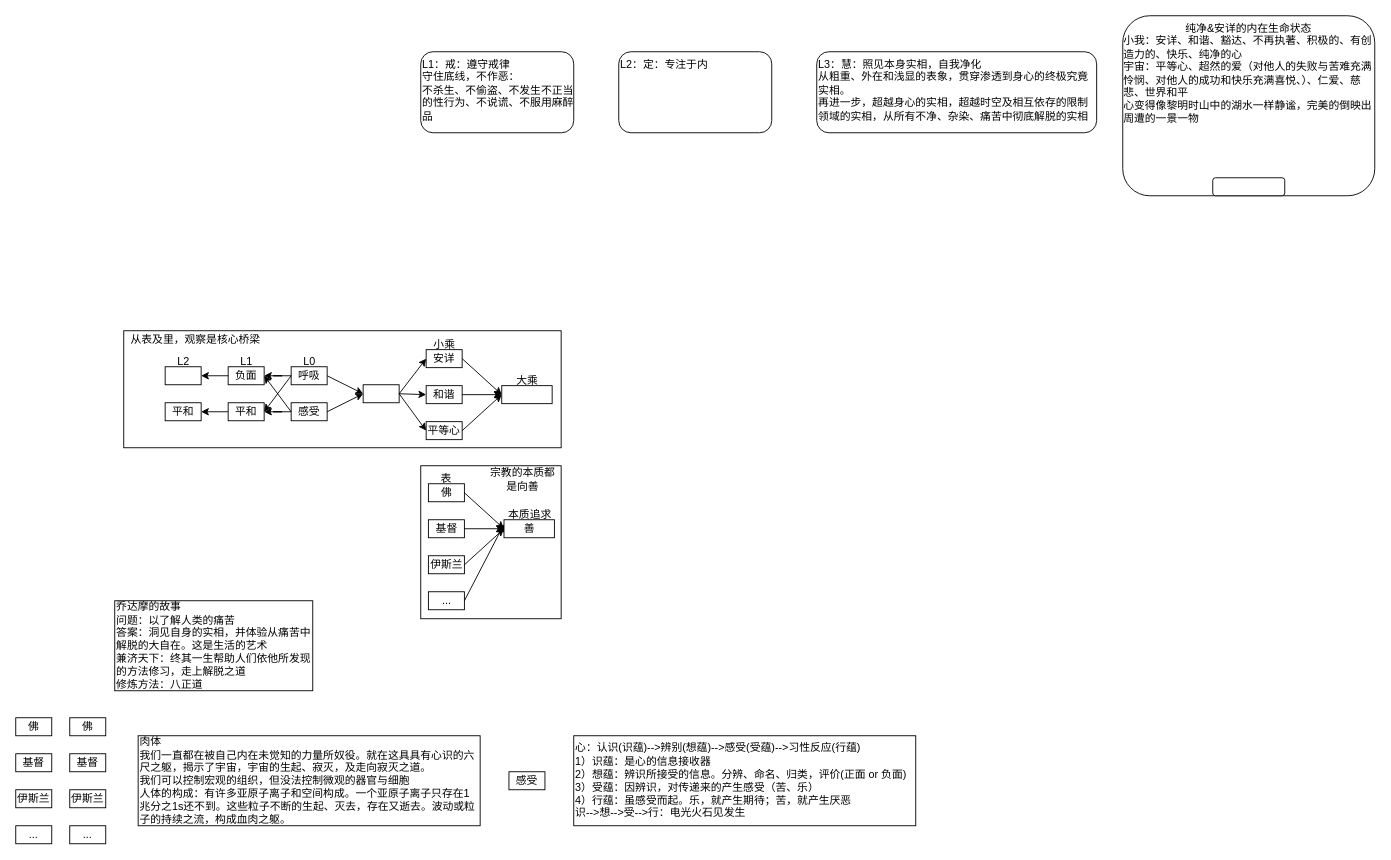
Image size: 1391x860. Some labels were removed from this diagram. Each missing label, with the centre of its shape:
"帮助他人" belongs at (526,394).
"愤怒" belongs at (182,375).
"观察" belongs at (380,393).
"过好这一生" belongs at (1248,186).
